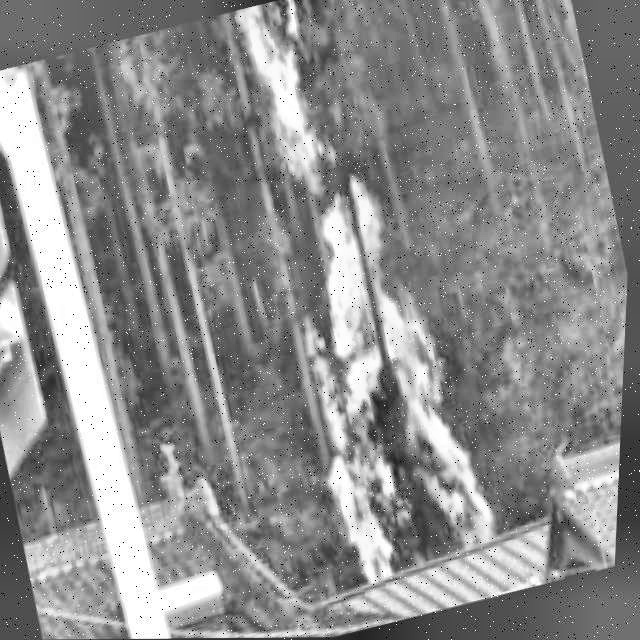Fire: (182, 0, 517, 594)
